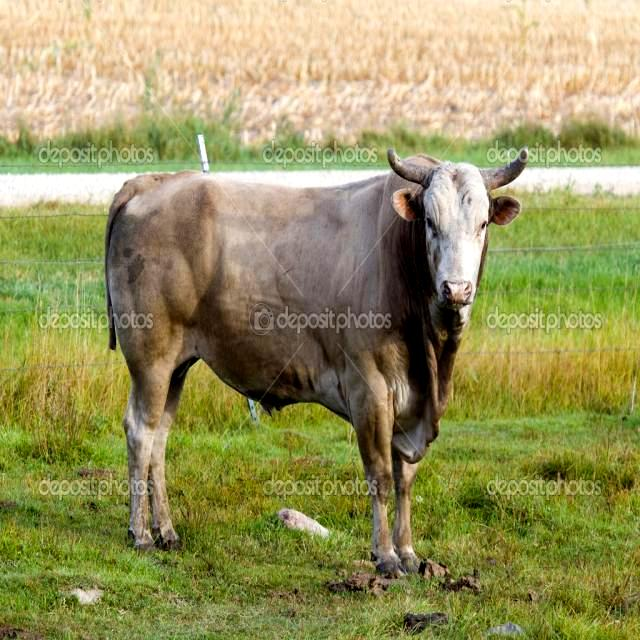COW: (105, 151, 526, 574)
